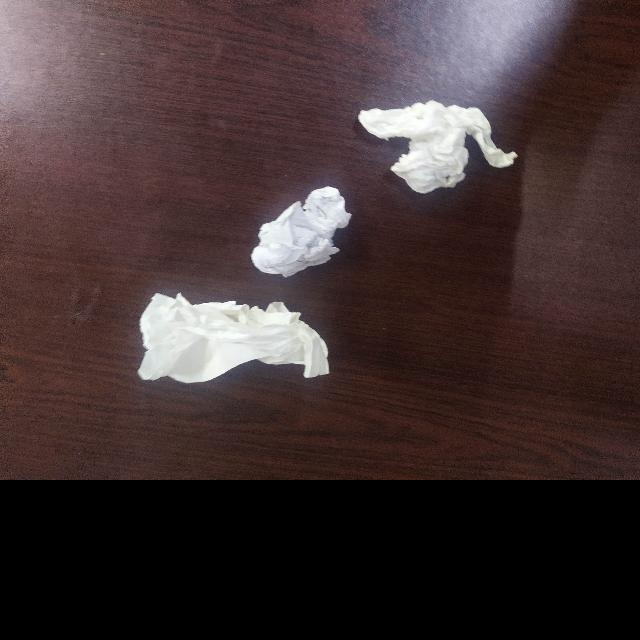kitchen paper: (130, 289, 337, 406), (359, 100, 530, 198), (254, 187, 356, 270)
